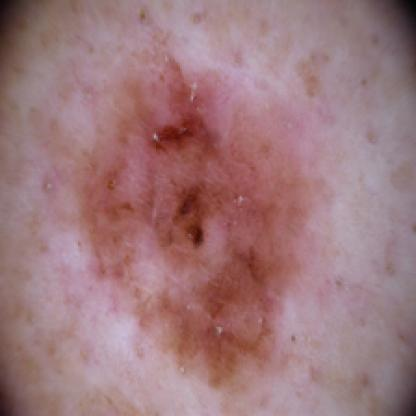Skin_Cancer-Malignant: (76, 51, 312, 389)
